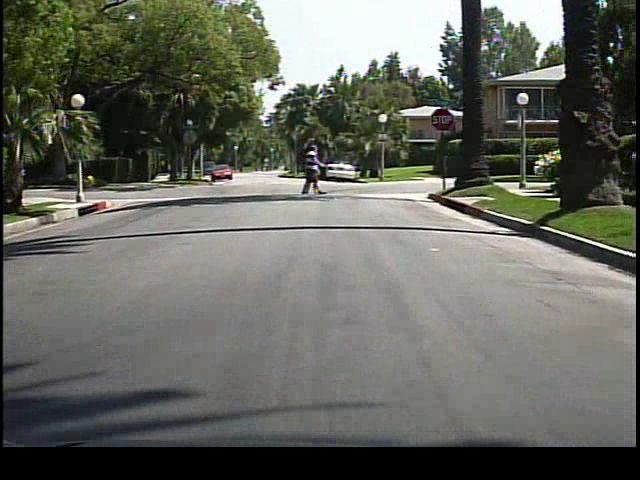person: (298, 146, 320, 197)
